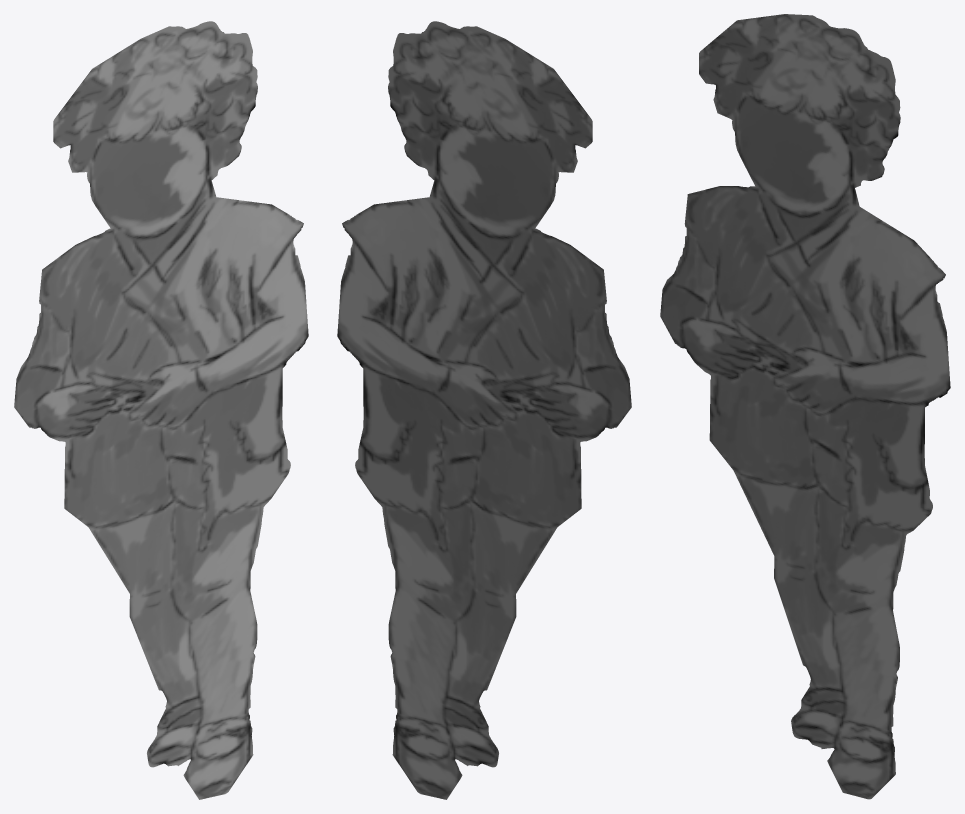
File: Depression_Kid2.fbx
3 renders of one model, left to right at view 1: azimuth 30°, elevation 25°; view 2: azimuth 150°, elevation 25°; view 3: azimuth 330°, elevation 25°, orthographic.
Parts seen in each view (by area): view 1: pCube1; view 2: pCube1; view 3: pCube1.
Part boxes in pixels (box(x1,y1,x2,y2)): pCube1: box(14, 21, 308, 799); pCube1: box(337, 21, 631, 799); pCube1: box(660, 14, 950, 799).
Size of the model in its own units: 0.00895 by 0.0227 by 0.
1 material, 1 textured.
